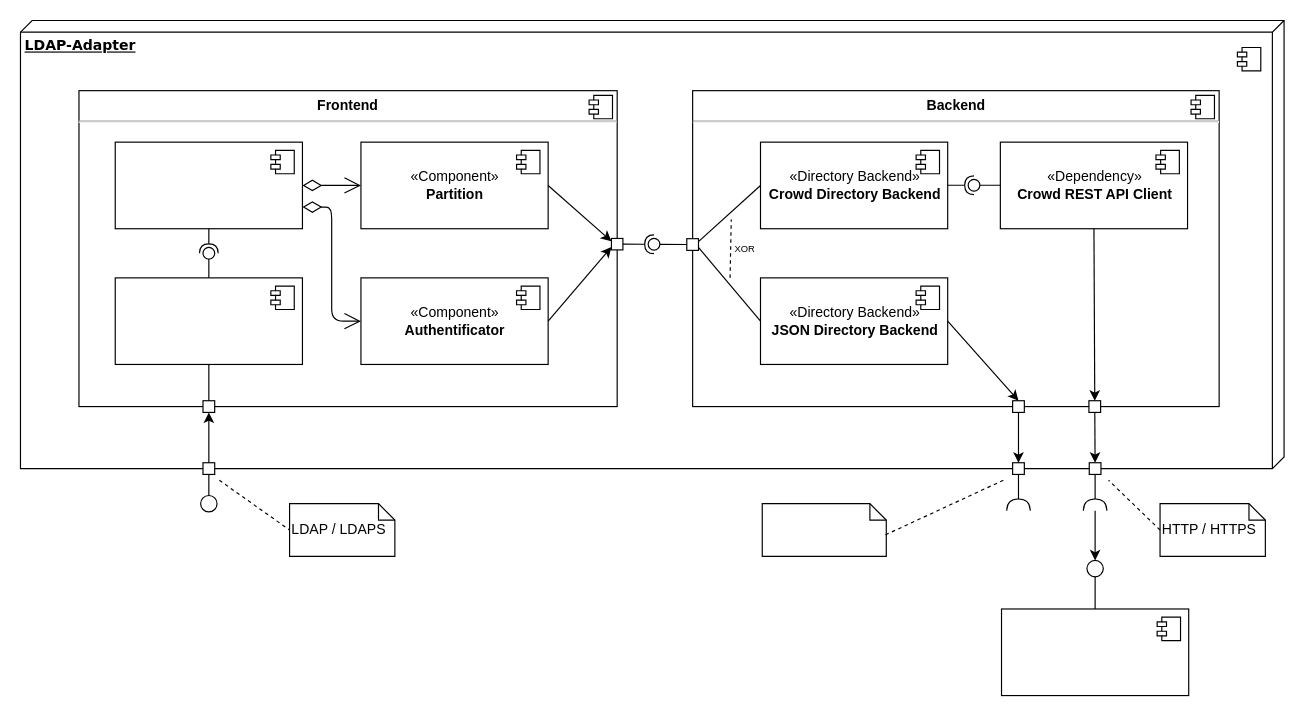
Some shapes in this 1305 by 716 pixel diagram are drawn without their labels. The centre of each missing label's shape, as x and y in pixels:
file system access: pixel 823 529
«Application» Crowd: pixel 1094 652
«Component» Server: pixel 208 185
«Dependency» Apache DS: pixel 208 320
